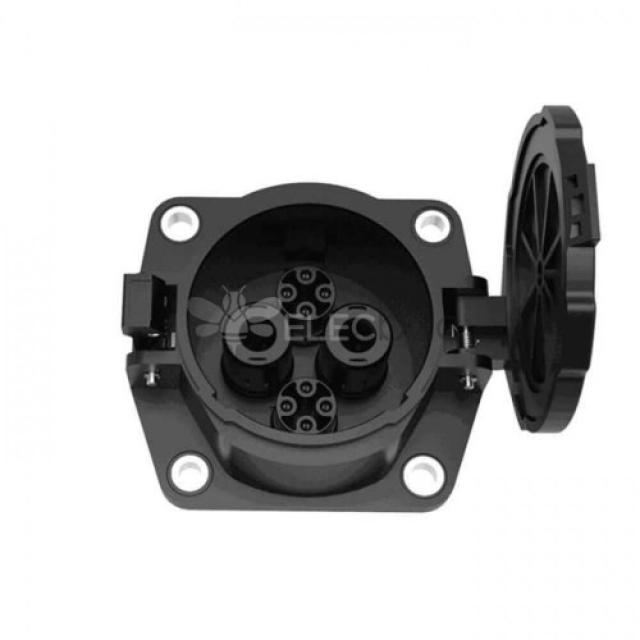CHAdeMO: (190, 236, 440, 474)
